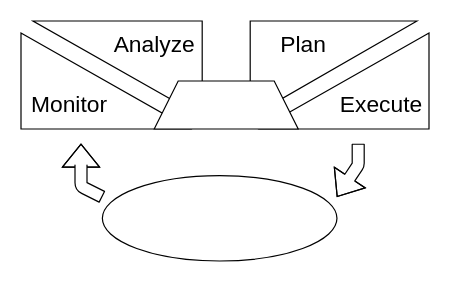
Some shapes in this 450 by 282 pixel diagram are drawn without their labels. The shapes that lost their labels are listed below. From the top down, each one's centre as x and y in pixels, then its label:
At point 225,104: "Knowledge".
At point 219,217: "Managed Object".
